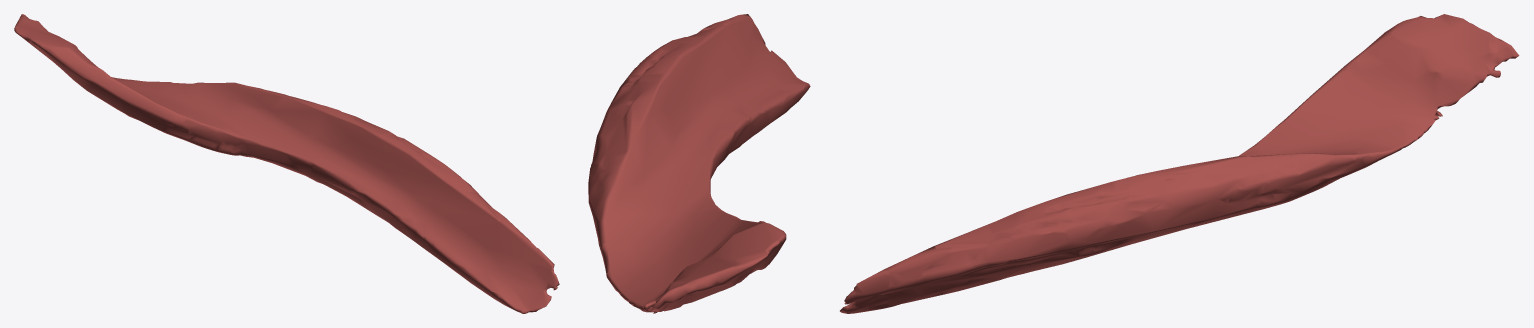
The model's file is FMA86035.glb.
The picture shows the model from 3 angles, left to right: view 1: azimuth 30°, elevation 25°; view 2: azimuth 150°, elevation 25°; view 3: azimuth 270°, elevation 25°; orthographic projection. The views are drawn at different scales.
Visible parts, largest first — view 1: FMA86035; view 2: FMA86035; view 3: FMA86035.
Part boxes in pixels (x1,y1,x2,y2): FMA86035: [14, 14, 559, 313]; FMA86035: [588, 14, 810, 313]; FMA86035: [840, 14, 1519, 313].
Bounding box in the file's own units: 0.0217 × 0.0111 × 0.0416.
